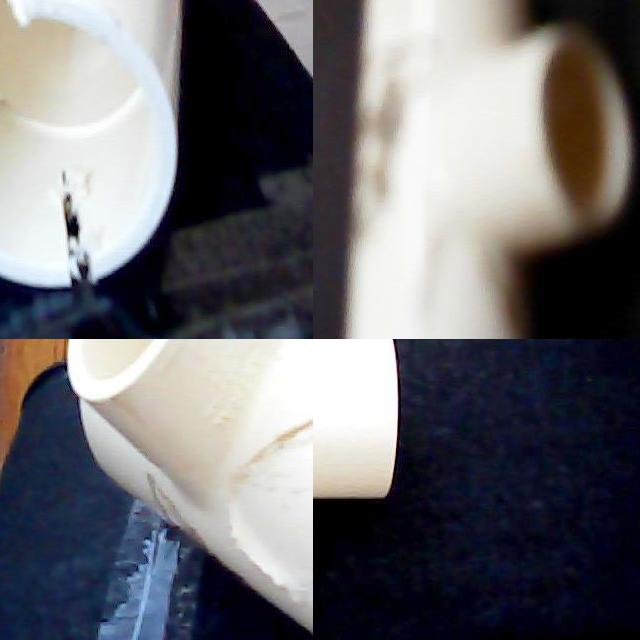Defective: (354, 27, 458, 252), (223, 374, 313, 601), (7, 0, 163, 102), (145, 464, 262, 574), (57, 170, 94, 305), (98, 218, 142, 282)
T Joint: (343, 0, 636, 339), (65, 339, 313, 640)
